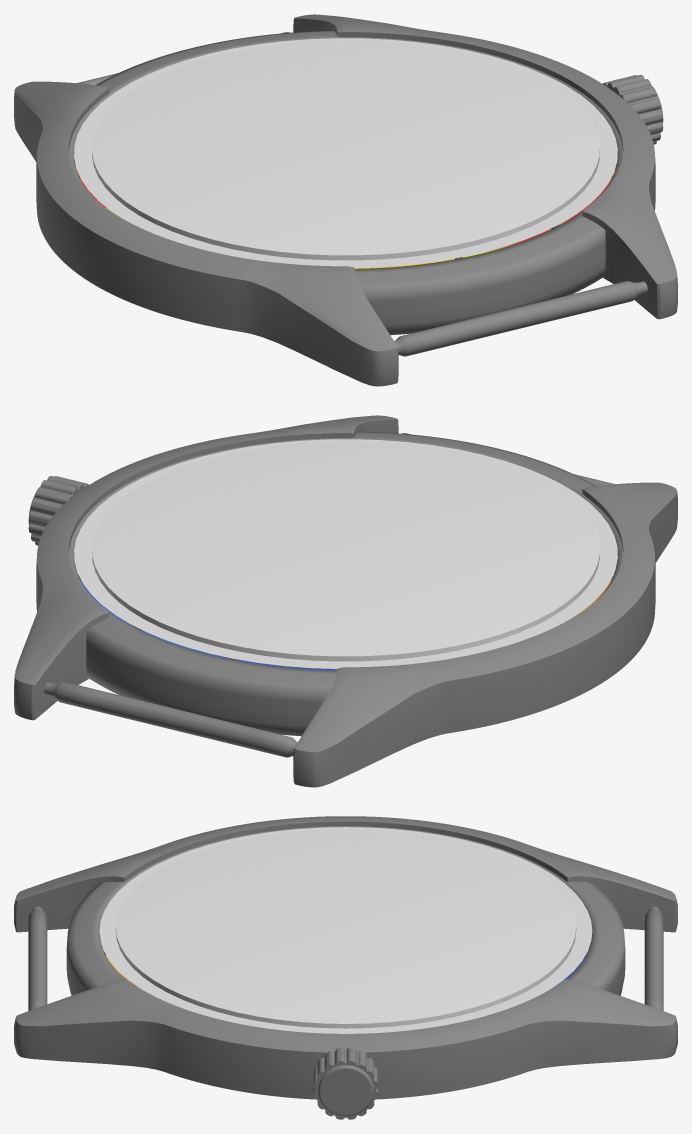
Rendered from Watch1.1.gltf.
The picture shows the model from 3 angles, top to bottom: view 1: azimuth 30°, elevation 25°; view 2: azimuth 150°, elevation 25°; view 3: azimuth 270°, elevation 25°; orthographic projection. The views are drawn at different scales.
Visible parts, largest first — view 1: Glass, Case 1, Case 2, Wheel; view 2: Glass, Case 1, Case 2, Wheel; view 3: Glass, Case 1, Case 2, Wheel.
Part boxes in pixels (x1,y1,x2,y2): Glass: (74, 38, 617, 267); Case 1: (14, 14, 677, 386); Case 2: (69, 30, 622, 335); Wheel: (603, 75, 663, 144); Glass: (74, 439, 617, 668); Case 1: (14, 415, 677, 787); Case 2: (69, 431, 622, 736); Wheel: (28, 476, 88, 545); Glass: (99, 827, 592, 1033); Case 1: (14, 816, 677, 1099); Case 2: (66, 826, 625, 995); Wheel: (313, 1047, 378, 1119).
Size of the model in its own units: 0.108 by 0.0137 by 0.1201.
6 materials, 2 textured.
